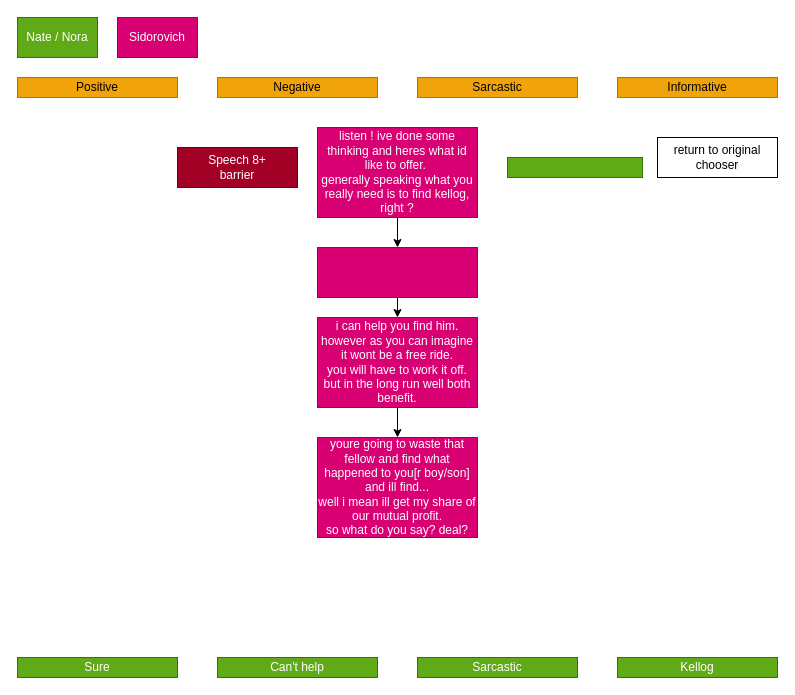
The diagram is 795 pixels wide and 695 high, and some of its shapes have lost their labels. The shapes that lost their labels are listed below. From the top down, each one's box as (x1, y1, x2, y2) in pixels, then its label:
(506, 156, 642, 178): Stupid junk dealer...
(316, 246, 478, 298): anyway, heres the thing about [him]. theres a [merc] that goes by this name.
